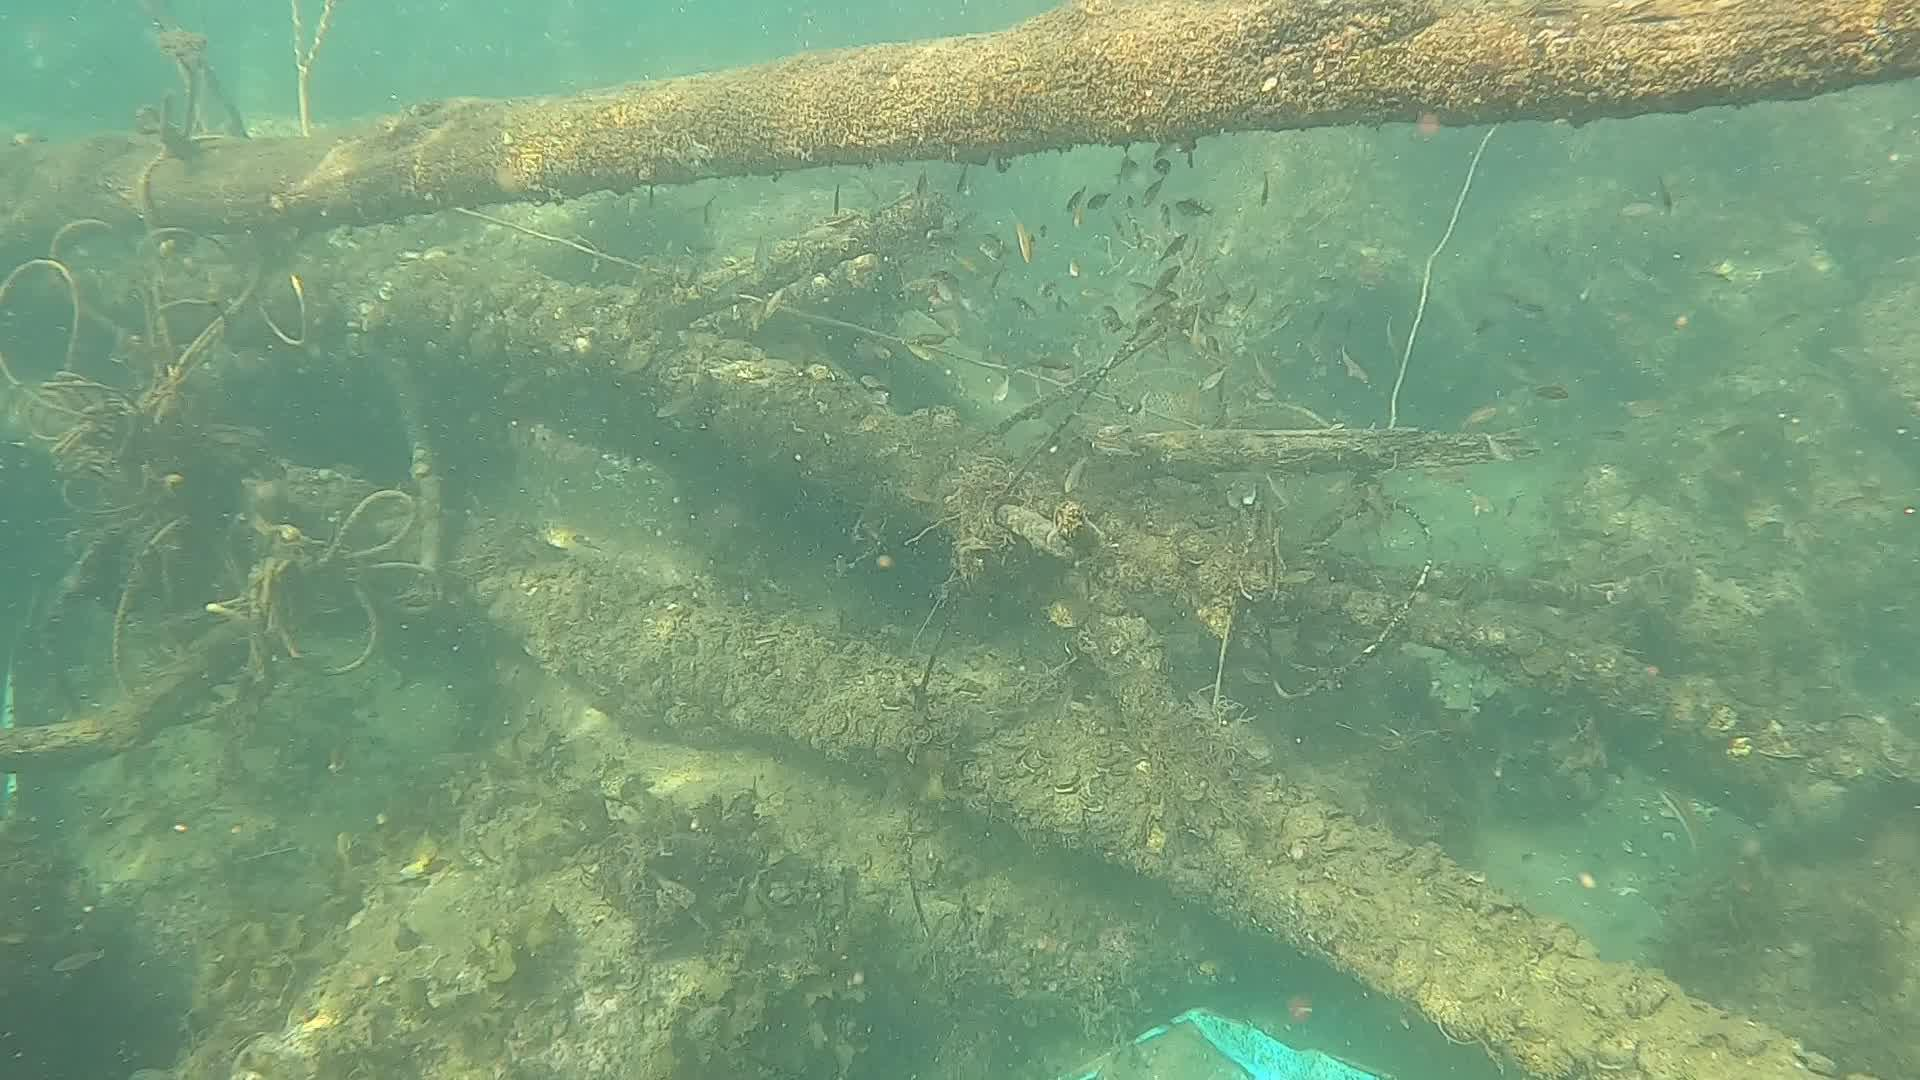bundle of ropes: (0, 67, 448, 731)
wood: (0, 378, 1841, 1075), (0, 241, 1544, 651), (0, 0, 1920, 219)
